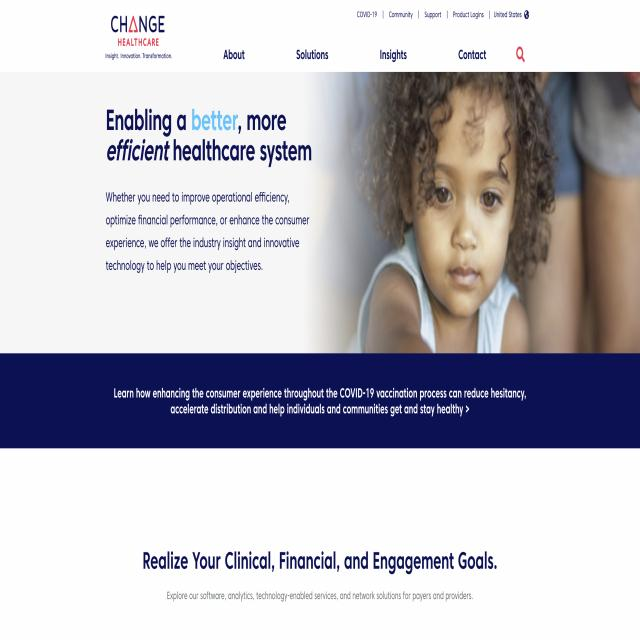Logo: (101, 4, 171, 66)
Navigation: (214, 43, 498, 63)
